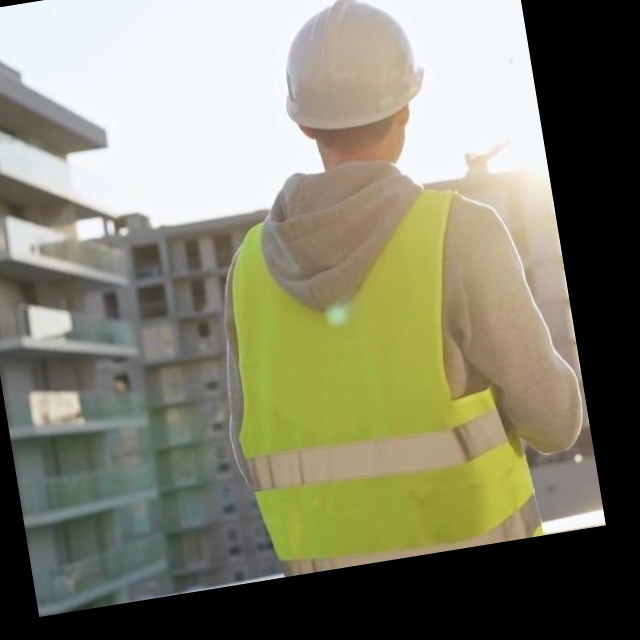Con_Casco: (266, 0, 438, 175)
Con_Chaleco: (198, 157, 543, 581)
